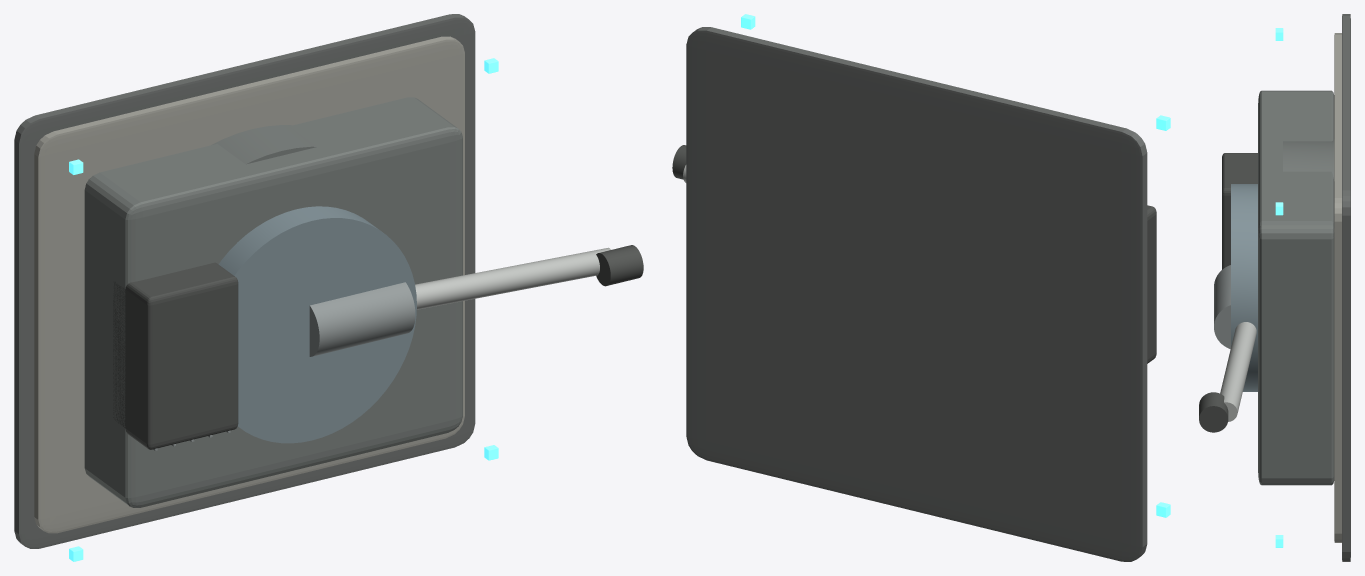
File: b-30-cannon-turret-lod1.glb
The picture shows the model from 3 angles, left to right: view 1: azimuth 30°, elevation 25°; view 2: azimuth 150°, elevation 25°; view 3: azimuth 270°, elevation 25°; orthographic projection. The views are drawn at different scales.
Parts seen in each view (by area): view 1: primary_hex_bunker, foundation_inner_pad, primary_turret_yaw, foundation, rear_ammunition_container, recoil_sleeve, heavy_cannon_barrel_0, turret_base, heavy_cannon_muzzle_0; view 2: foundation, rear_ammunition_container; view 3: primary_hex_bunker, foundation, primary_turret_yaw, foundation_inner_pad, heavy_cannon_barrel_0, rear_ammunition_container, turret_base, recoil_sleeve, heavy_cannon_muzzle_0.
Boxes of the visible parts, box(x1,y1,x2,y2) form: primary_hex_bunker: box(84, 97, 462, 507); foundation_inner_pad: box(34, 36, 464, 533); primary_turret_yaw: box(218, 206, 416, 443); foundation: box(14, 14, 475, 548); rear_ammunition_container: box(113, 262, 238, 449); recoil_sleeve: box(309, 282, 415, 356); heavy_cannon_barrel_0: box(415, 247, 610, 309); turret_base: box(211, 125, 317, 164); heavy_cannon_muzzle_0: box(596, 245, 643, 286); foundation: box(686, 27, 1147, 561); rear_ammunition_container: box(1147, 205, 1156, 363); primary_hex_bunker: box(1258, 90, 1334, 485); foundation: box(1342, 14, 1350, 561); primary_turret_yaw: box(1231, 184, 1257, 391); foundation_inner_pad: box(1334, 33, 1341, 542); heavy_cannon_barrel_0: box(1220, 322, 1256, 421); rear_ammunition_container: box(1222, 153, 1257, 269); turret_base: box(1283, 139, 1334, 180); recoil_sleeve: box(1214, 265, 1230, 348); heavy_cannon_muzzle_0: box(1199, 392, 1228, 432).
Size of what is drawn, in the model's own units: 11.86 by 9 by 3.35.
